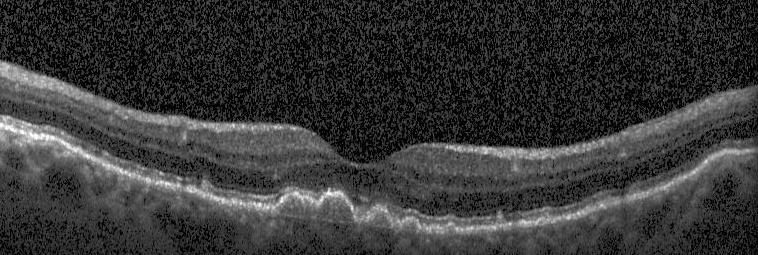retinal_drusen: (275, 195, 317, 217), (318, 196, 353, 222), (703, 153, 729, 174), (367, 210, 389, 227), (36, 140, 66, 152), (494, 211, 507, 231), (192, 181, 207, 197), (399, 219, 418, 231), (448, 224, 455, 234), (75, 147, 81, 157), (537, 218, 544, 225)
